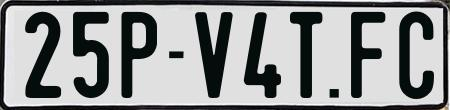2: (24, 9, 66, 98)
4: (242, 10, 281, 102)
5: (72, 9, 111, 101)
C: (397, 10, 433, 101)
F: (351, 12, 385, 103)
P: (120, 12, 156, 99)
T: (289, 9, 323, 98)
V: (192, 9, 235, 96)
